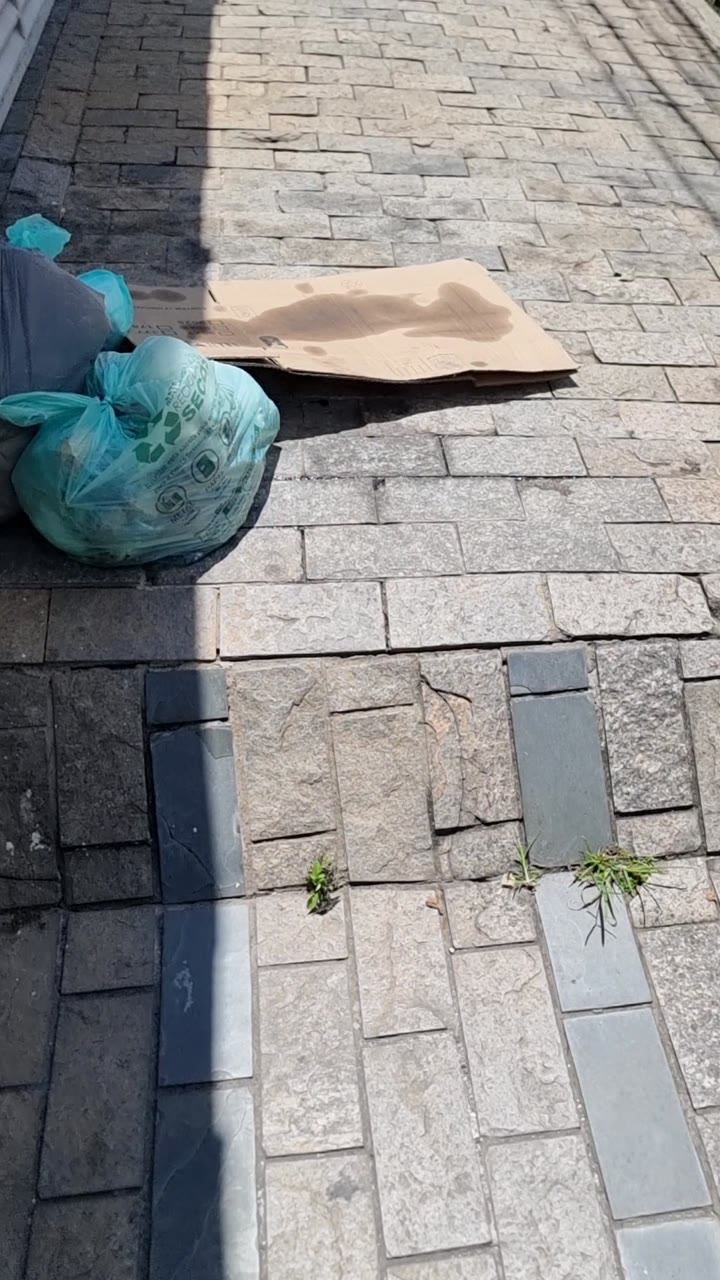obstaculo: (2, 337, 279, 566), (1, 228, 125, 521)
